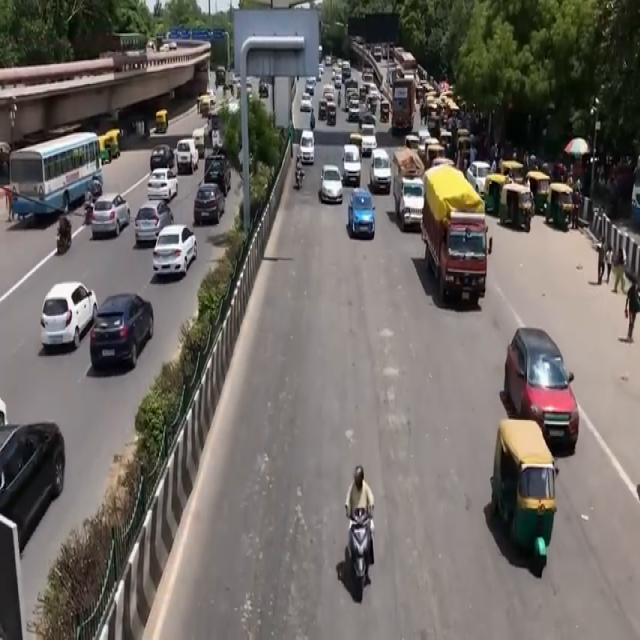BUS: (8, 130, 105, 220), (388, 71, 418, 135)
MOTORCYCLE: (346, 513, 374, 605)
SED: (152, 225, 198, 282)
SUV: (504, 323, 577, 462), (90, 292, 154, 376)
TRUCK: (423, 173, 489, 314), (394, 150, 422, 228)
